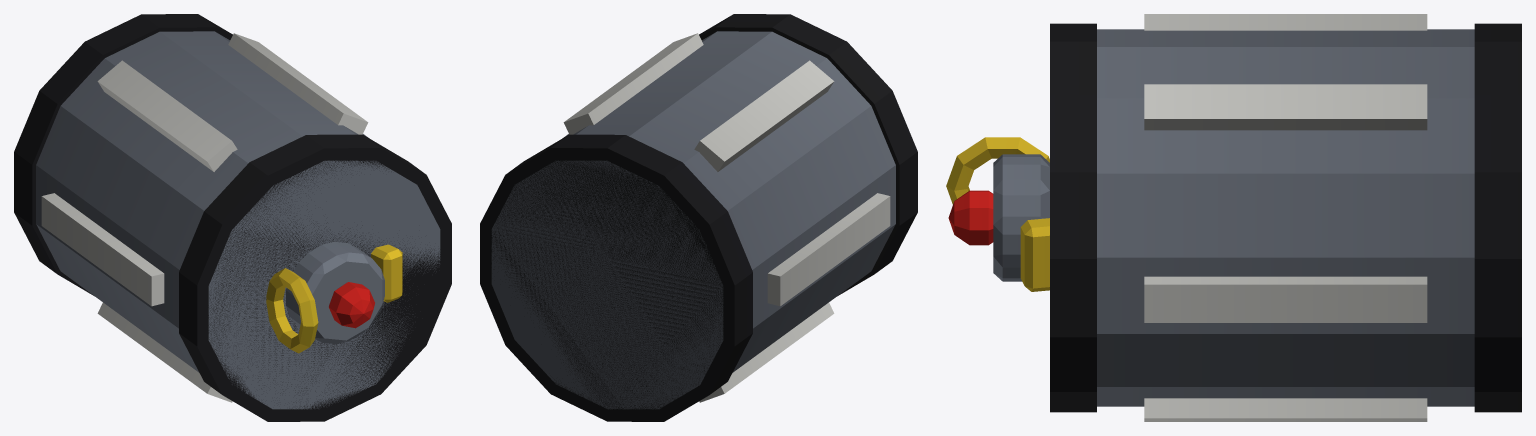
The model's file is flash.glb.
The picture shows the model from 3 angles, left to right: view 1: azimuth 30°, elevation 25°; view 2: azimuth 150°, elevation 25°; view 3: azimuth 270°, elevation 25°; orthographic projection. The views are drawn at different scales.
Visible parts, largest first — view 1: flash; view 2: flash; view 3: flash.
Boxes of the visible parts, box(x1,y1,x2,y2) form: flash: box(14, 14, 451, 421); flash: box(480, 14, 917, 421); flash: box(946, 14, 1521, 421).
Bounding box in the file's own units: 0.172 × 0.1648 × 0.244.
